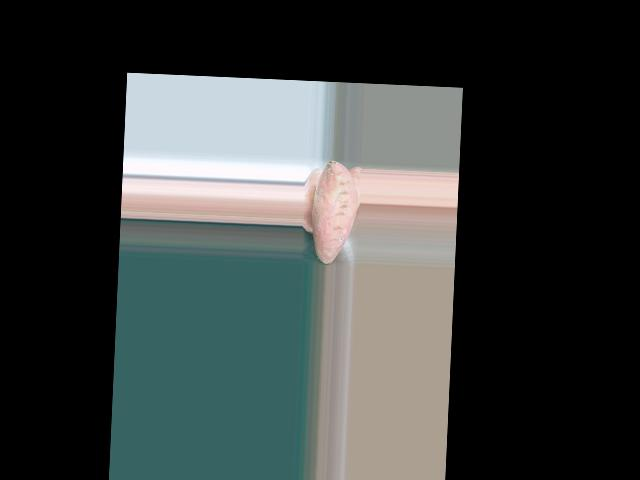sweet_potato: (314, 159, 355, 264)
